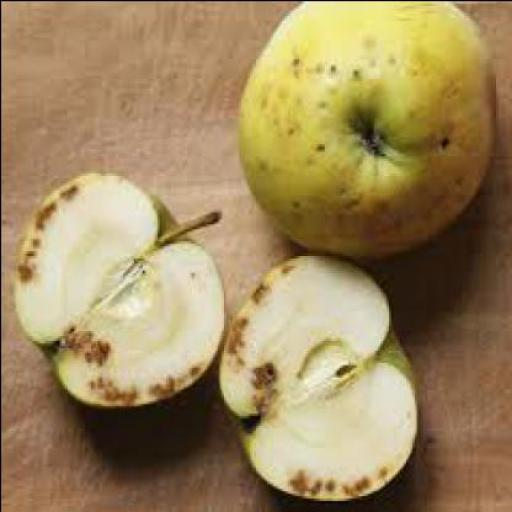biodegradable: (241, 1, 502, 257), (16, 167, 230, 405), (220, 250, 422, 502)
